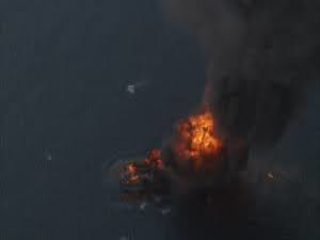fire: (172, 110, 225, 161), (120, 150, 164, 193)
smoke: (201, 12, 288, 169)
